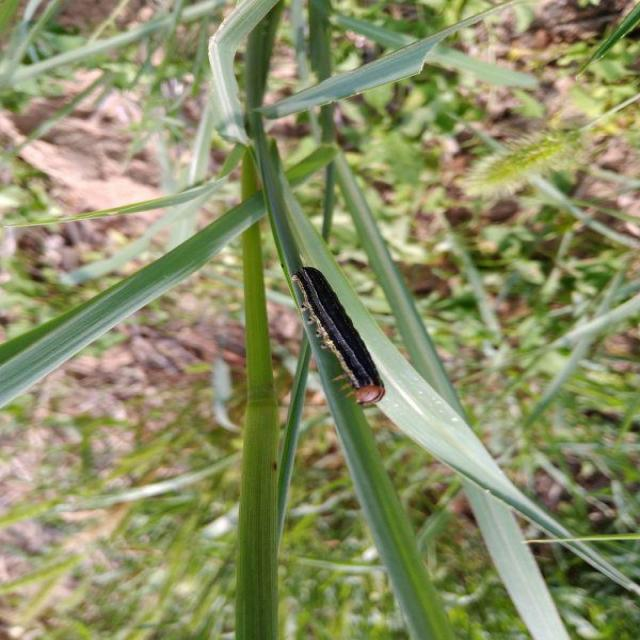army worm: (283, 267, 391, 409)
